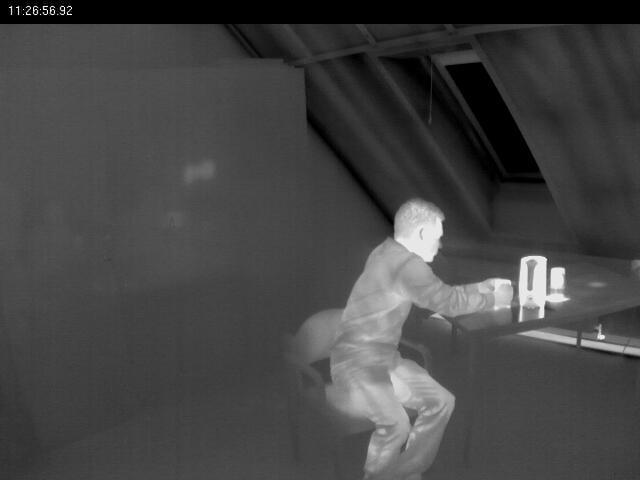person: (297, 192, 517, 480)
